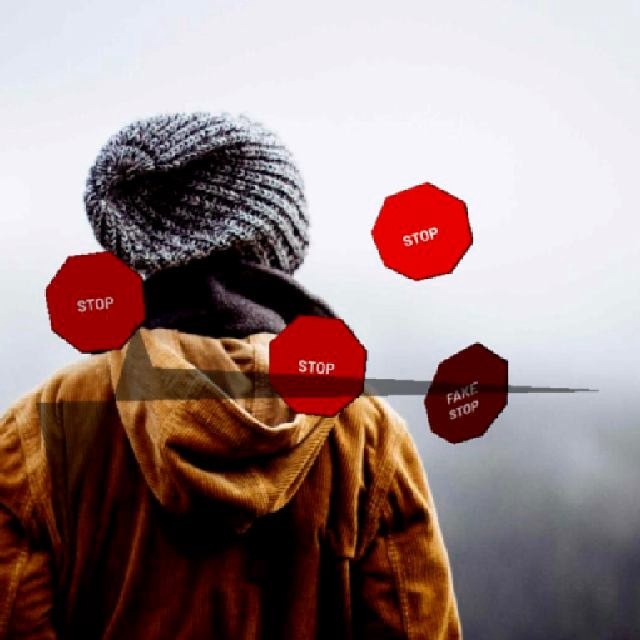FAKE_STOP: (422, 340, 507, 443)
STOP: (43, 249, 145, 352), (369, 180, 472, 280), (267, 313, 366, 416)
